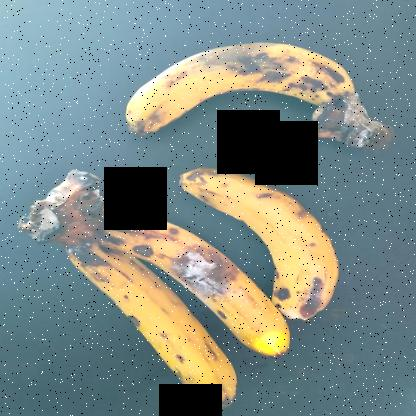overripe: (50, 236, 250, 412), (99, 201, 306, 347), (186, 162, 340, 345), (103, 31, 361, 134)
rotten: (168, 223, 254, 321)
